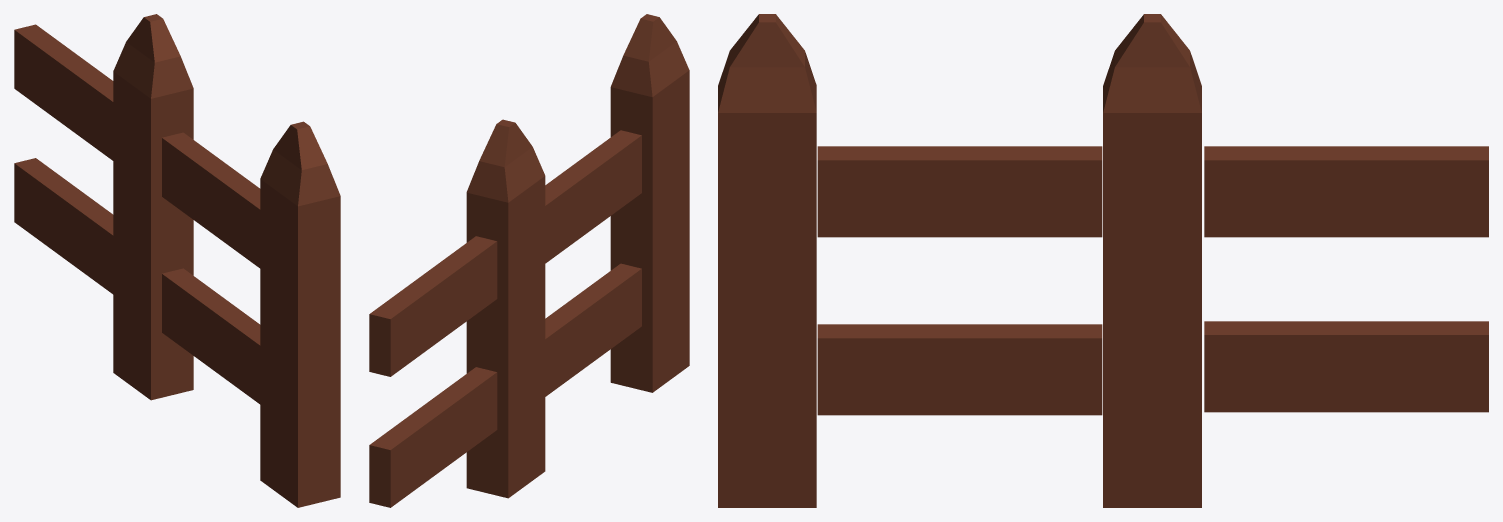
Rendered from cerca.fbx.
3 renders of one model, left to right at view 1: azimuth 30°, elevation 25°; view 2: azimuth 150°, elevation 25°; view 3: azimuth 270°, elevation 25°, orthographic. The views are drawn at different scales.
Visible parts, largest first — view 1: Cerca; view 2: Cerca; view 3: Cerca.
Part boxes in pixels (x1,y1,x2,y2): Cerca: [14, 14, 340, 507]; Cerca: [369, 14, 689, 507]; Cerca: [718, 14, 1488, 507].
Size of the model in its own units: 0.3351 by 2.72 by 3.99.
